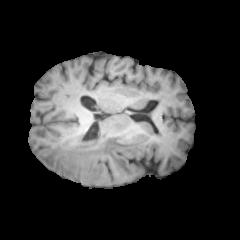glioma: (40, 115, 140, 182)
